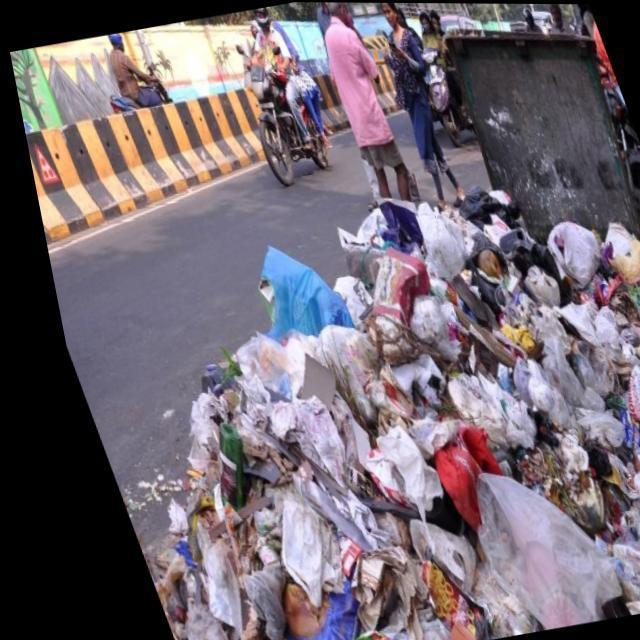Garbage: (120, 185, 640, 640)
Glass_bottle: (200, 425, 225, 507)
Plastic_Bag: (456, 471, 597, 627), (250, 245, 340, 341), (346, 424, 423, 517), (259, 492, 320, 605), (432, 372, 519, 446), (304, 324, 364, 423), (221, 329, 307, 397), (274, 472, 349, 549), (449, 561, 514, 636), (389, 518, 454, 592), (359, 248, 418, 324), (176, 522, 216, 634), (416, 442, 461, 530), (407, 201, 454, 280), (537, 220, 591, 285), (219, 564, 262, 640), (501, 245, 557, 302), (598, 504, 640, 579), (589, 540, 640, 601), (527, 335, 571, 405), (511, 358, 553, 426), (592, 221, 640, 280), (450, 184, 511, 228), (370, 198, 413, 251), (557, 405, 607, 448), (322, 276, 360, 328), (441, 426, 483, 472), (161, 601, 203, 640), (613, 366, 640, 422), (615, 283, 640, 343), (581, 305, 608, 360), (512, 263, 547, 303), (614, 470, 640, 519), (555, 348, 582, 388), (617, 443, 640, 484), (604, 408, 624, 443), (327, 227, 357, 248), (499, 358, 510, 397)
Plastic_wraper: (398, 555, 465, 640), (255, 576, 333, 640)
